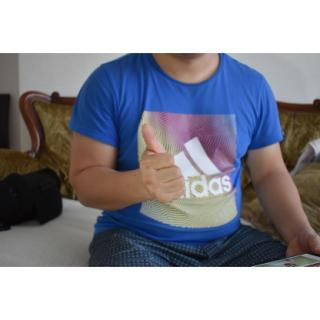ALIF: (133, 120, 191, 208)
